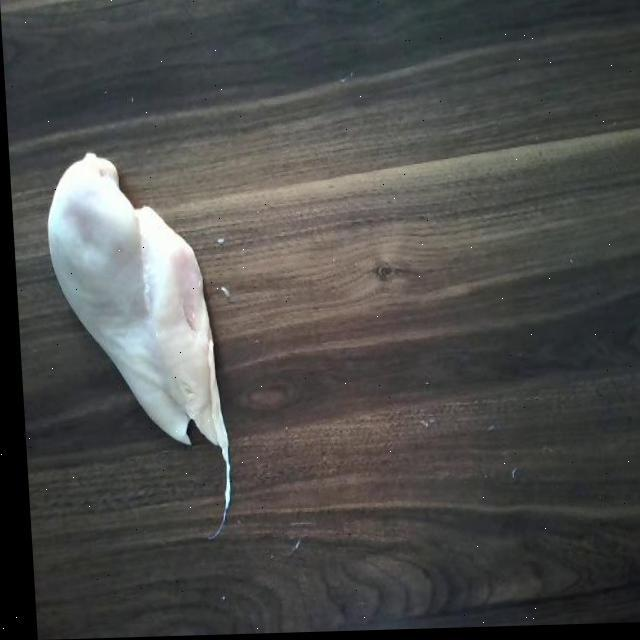breast: (38, 145, 246, 489)
